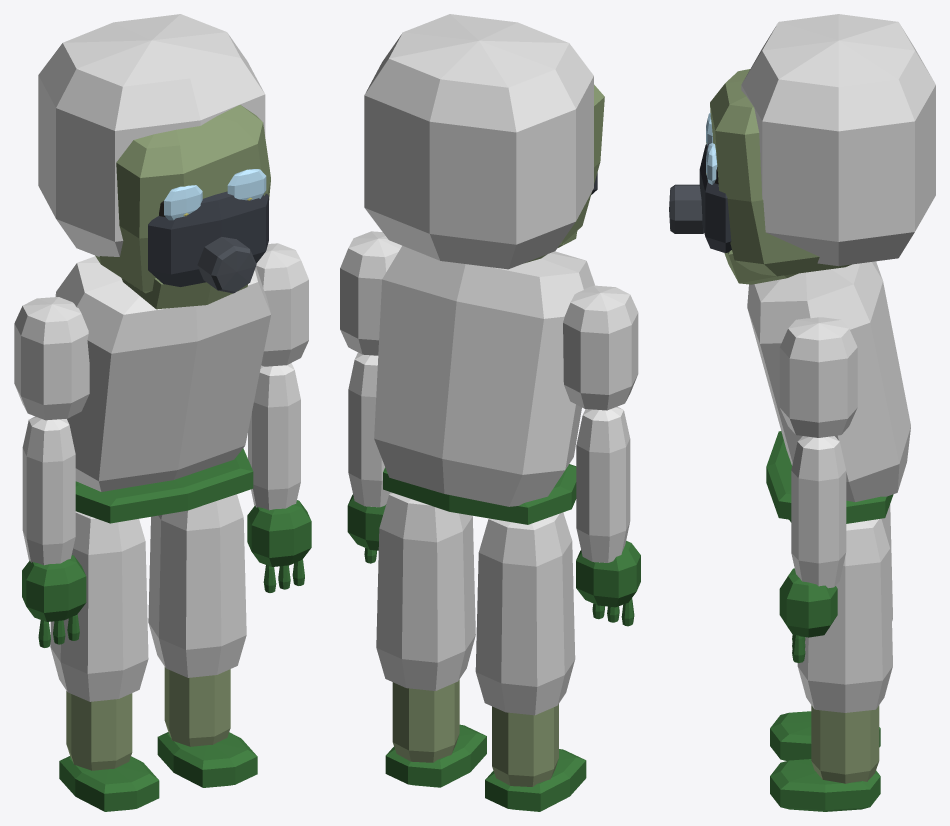
The model's file is mon-hazmat-2.glb.
3 renders of one model, left to right at view 1: azimuth 30°, elevation 25°; view 2: azimuth 150°, elevation 25°; view 3: azimuth 270°, elevation 25°, orthographic.
Visible parts, largest first — view 1: head, torso, leg-left, leg-right, arm-right, arm-left; view 2: head, torso, leg-right, leg-left, arm-right, arm-left; view 3: head, leg-left, torso, arm-left, leg-right.
Part boxes in pixels (x1,y1,x2,y2): head: [38, 14, 270, 309]; torso: [55, 256, 270, 523]; leg-left: [148, 494, 257, 787]; leg-right: [50, 511, 159, 811]; arm-right: [14, 297, 89, 647]; arm-left: [247, 243, 311, 592]; head: [364, 14, 604, 269]; torso: [374, 246, 594, 524]; leg-right: [475, 512, 586, 811]; leg-left: [376, 492, 486, 787]; arm-right: [563, 285, 640, 626]; arm-left: [340, 231, 401, 563]; head: [669, 14, 935, 284]; leg-left: [770, 518, 892, 811]; torso: [747, 261, 910, 523]; arm-left: [779, 317, 857, 662]; leg-right: [770, 504, 892, 760].
Size of the model in its own units: 0.9745 by 2.44 by 0.8026.
